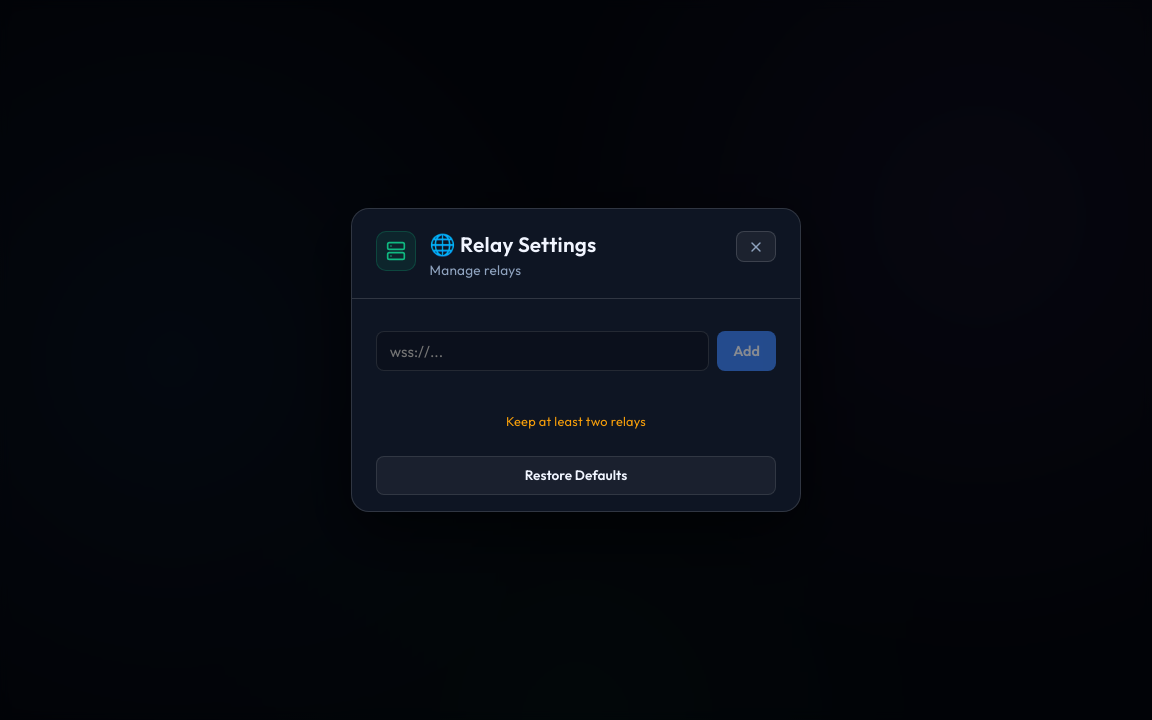
Scenario: RelaySettingsModal — adicionar relay › deve mostrar erro para URL sem prefixo wss:// ou ws://
Type "http://invalid.com" into the field with placeholder "wss://..." at {"x": 543, "y": 351}, box x1=376 y1=331 x2=709 y2=371
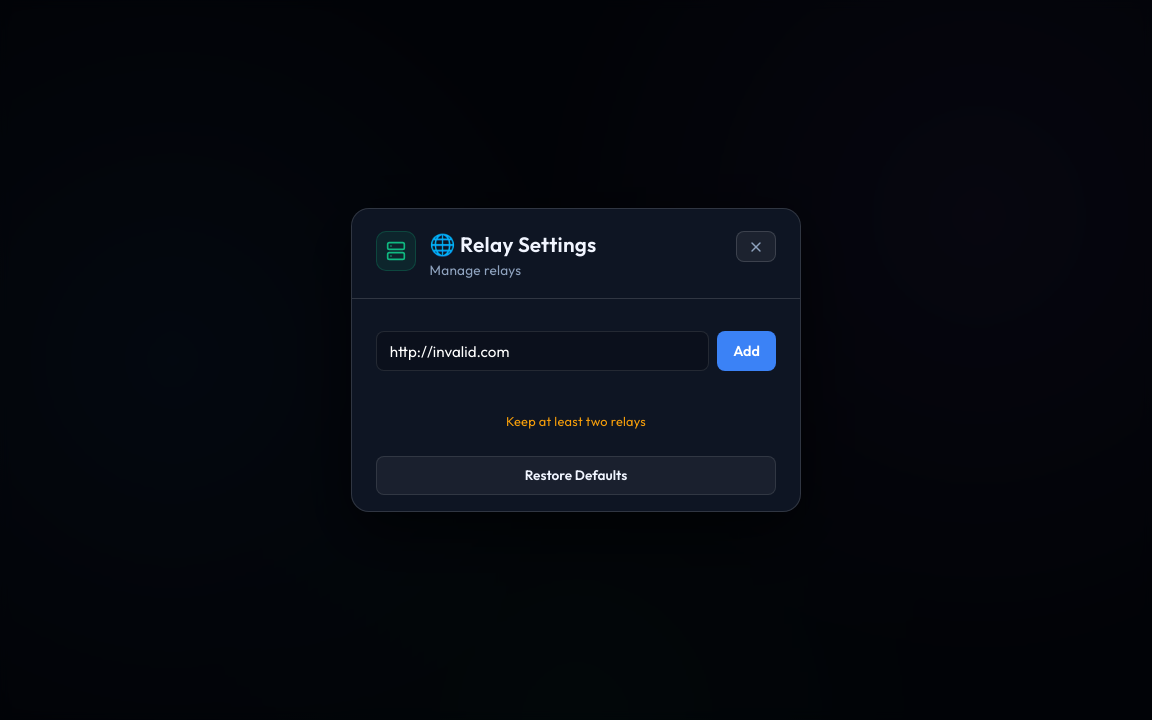
Click the button "Add" at {"x": 747, "y": 351}, box x1=717 y1=331 x2=776 y2=371
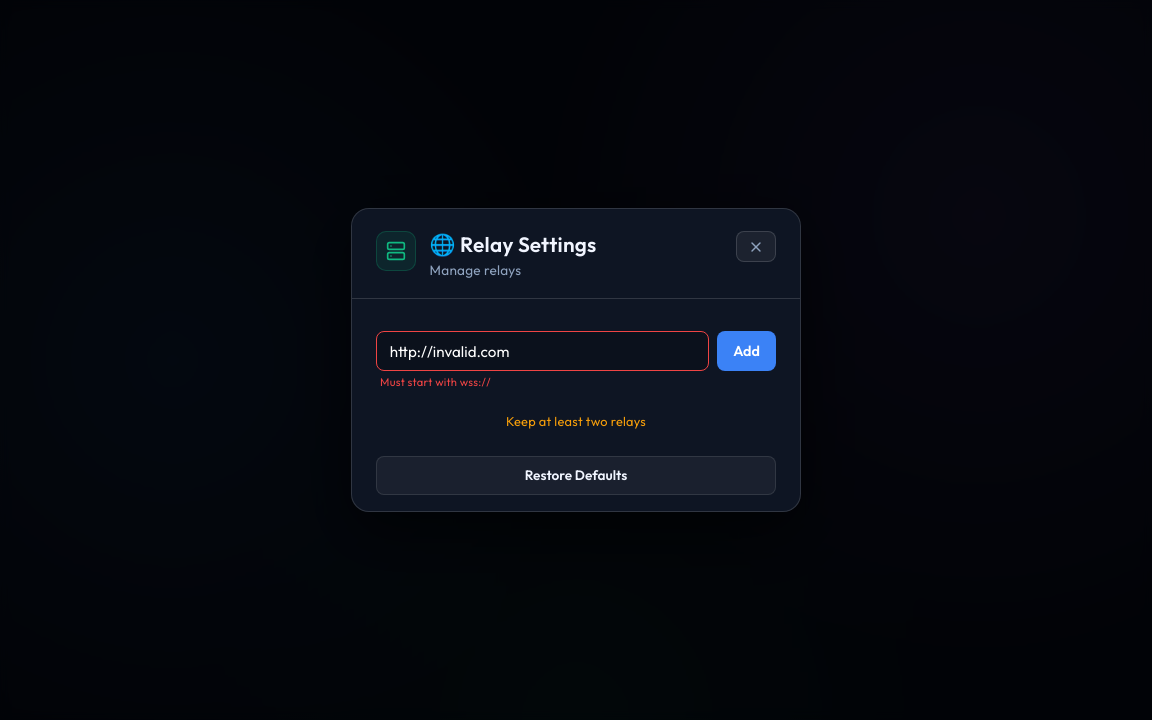
Expected: the text "Must start with wss://" is shown, x1=380 y1=375 x2=491 y2=389
